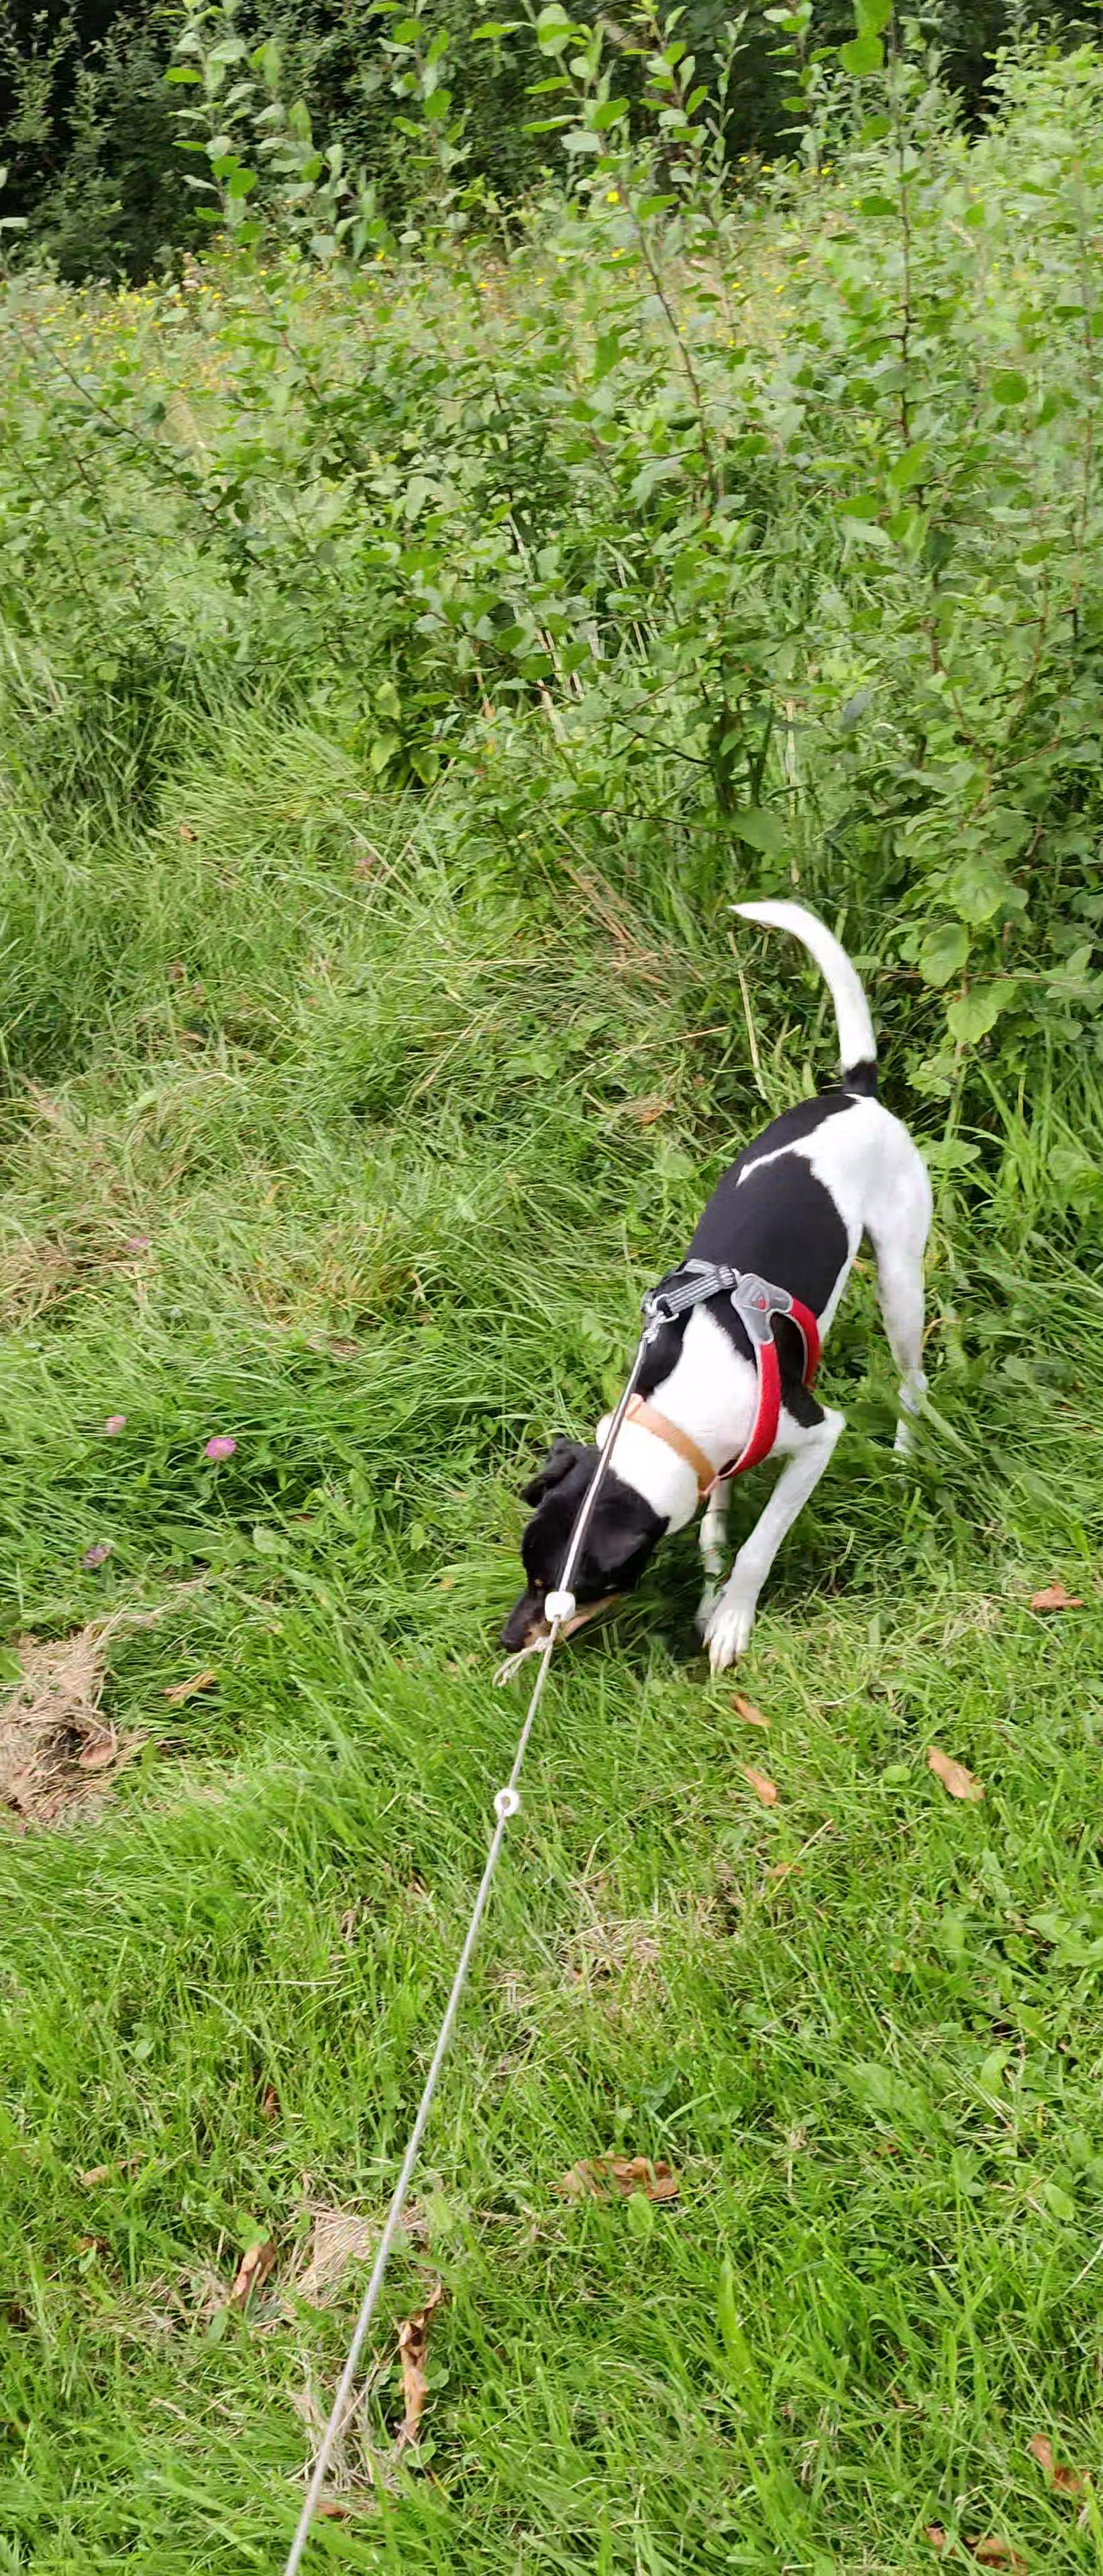Dog: (459, 879, 958, 1689)
